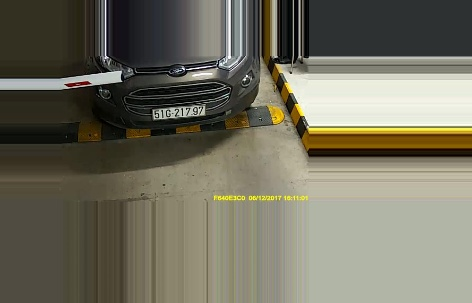plate: (150, 103, 206, 121)
